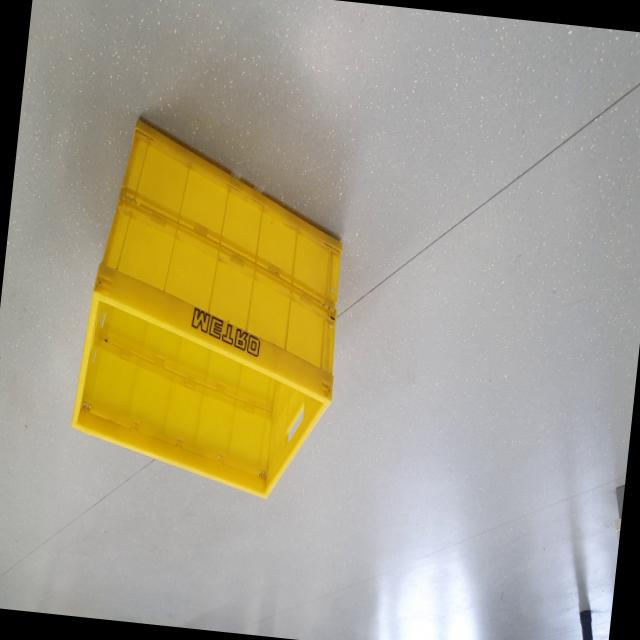box: (37, 101, 366, 521)
